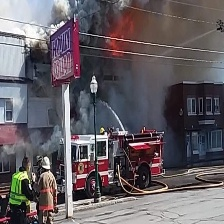fire: (109, 18, 133, 50)
smoke: (114, 1, 224, 124), (13, 87, 110, 160), (18, 1, 114, 52)
